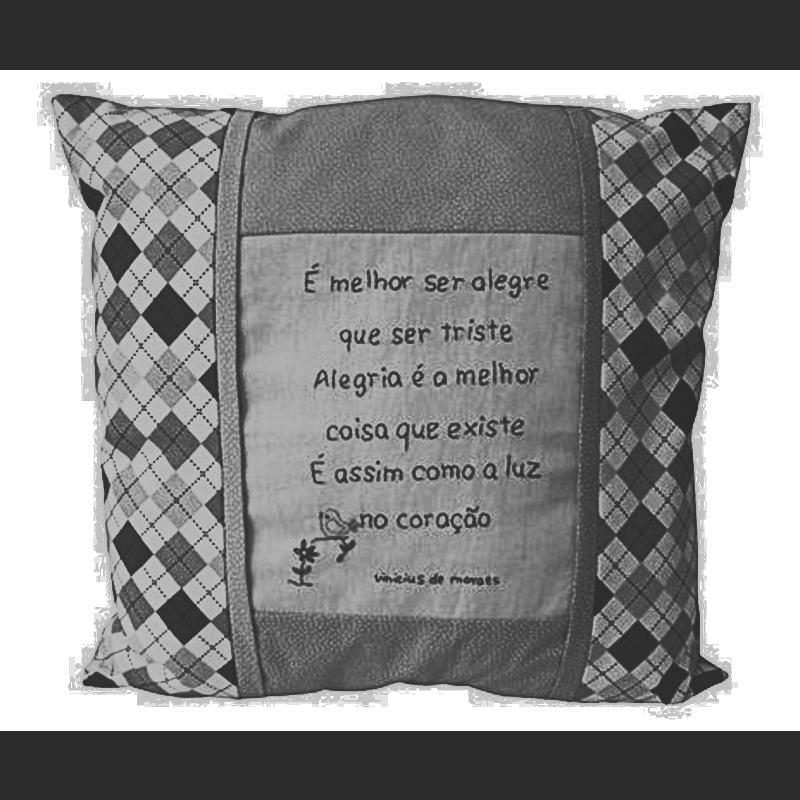pillow: (64, 91, 728, 701)
